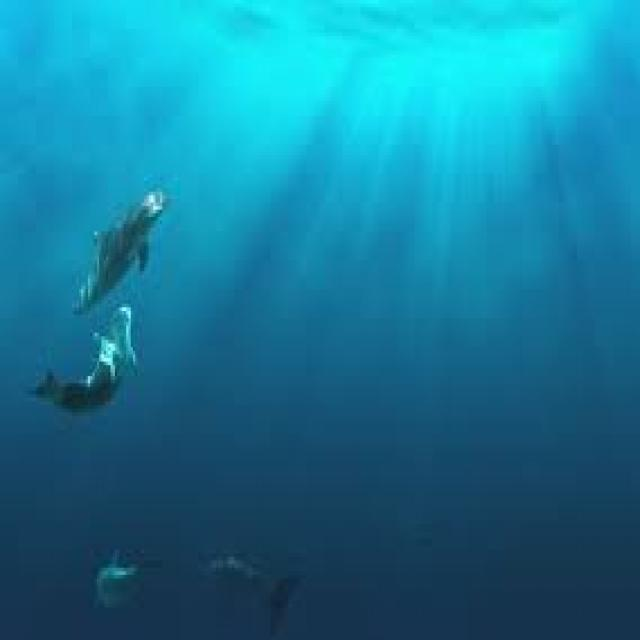dolphin: (63, 140, 192, 308)
